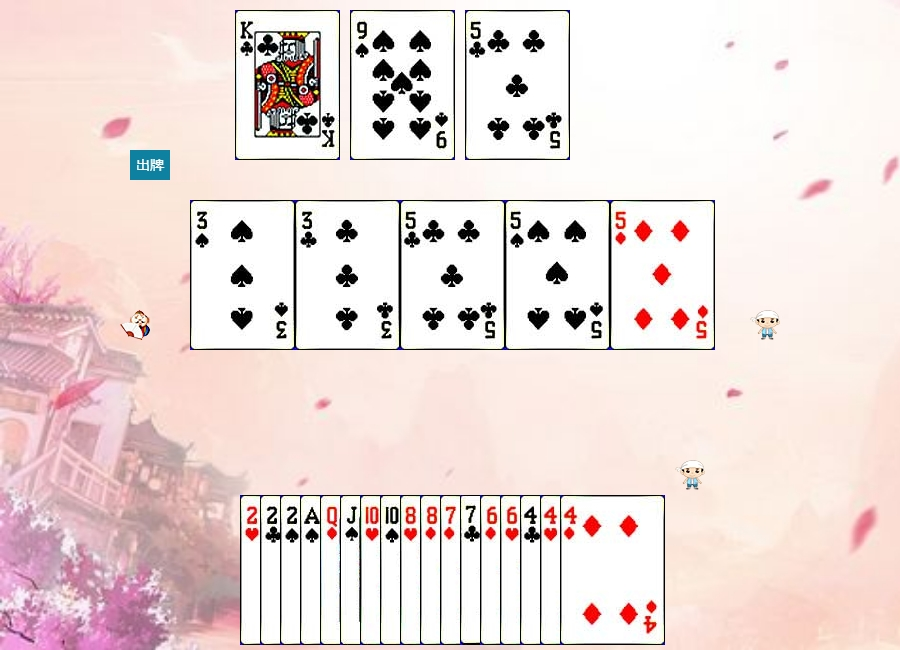10~3: (360, 495, 465, 645)
10~4: (380, 495, 485, 645)
11~4: (340, 495, 445, 645)
12~1: (320, 495, 425, 645)
13~2: (235, 10, 340, 160)
14~4: (300, 495, 405, 645)
15~2: (260, 495, 365, 645)
15~3: (240, 495, 345, 645)
15~4: (280, 495, 385, 645)
3~2: (295, 200, 400, 350)
3~4: (190, 200, 295, 350)
4~1: (560, 495, 665, 645)
4~2: (520, 495, 625, 645)
4~3: (540, 495, 645, 645)
5~1: (610, 200, 715, 350)
5~2: (465, 10, 570, 160), (400, 200, 505, 350)
5~4: (505, 200, 610, 350)
6~1: (480, 495, 585, 645)
6~3: (500, 495, 605, 645)
7~1: (440, 495, 545, 645)
7~2: (460, 495, 565, 645)
8~1: (420, 495, 525, 645)
8~3: (400, 495, 505, 645)
9~4: (350, 10, 455, 160)
